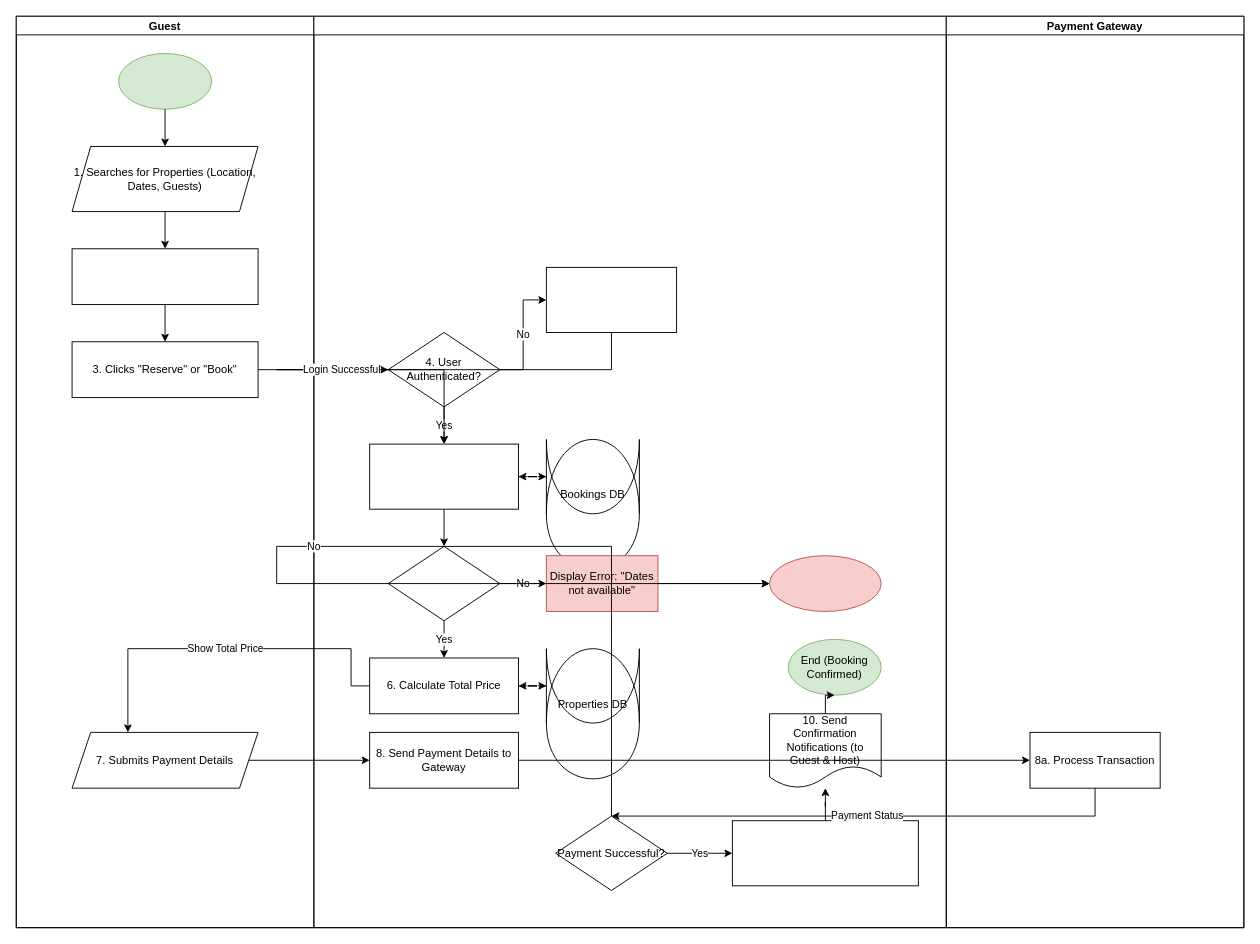
This 1260x944 diagram has some shape labels left out. The shapes that lost their labels are listed below. From the top down, each one's box as (x1, y1, x2, y2) in pixels, then its label:
(118, 53, 212, 109): Start
(71, 248, 258, 305): 2. Selects & Views a Property
(545, 266, 677, 332): 4a. Prompt for Login / Registration
(369, 443, 518, 509): 5. Check Property Availability for Dates
(313, 15, 946, 928): Airbnb Clone Backend System
(387, 545, 500, 621): Is Available?
(769, 555, 881, 611): End (Booking Failed)
(731, 820, 918, 886): 9. Create Booking & Payment Records, Update Availability
